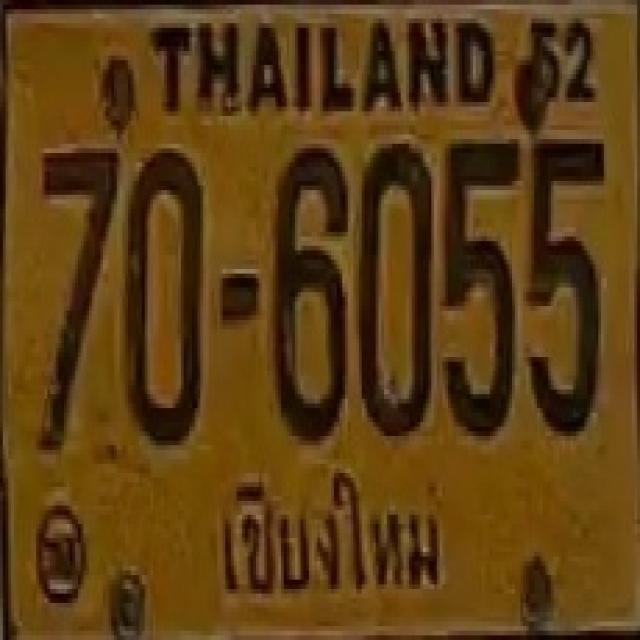0: (124, 148, 202, 446), (357, 139, 430, 436)
5: (528, 137, 606, 438), (441, 139, 519, 436)
6: (273, 146, 345, 438)
7: (39, 146, 117, 452)
CMI: (214, 468, 456, 620)
